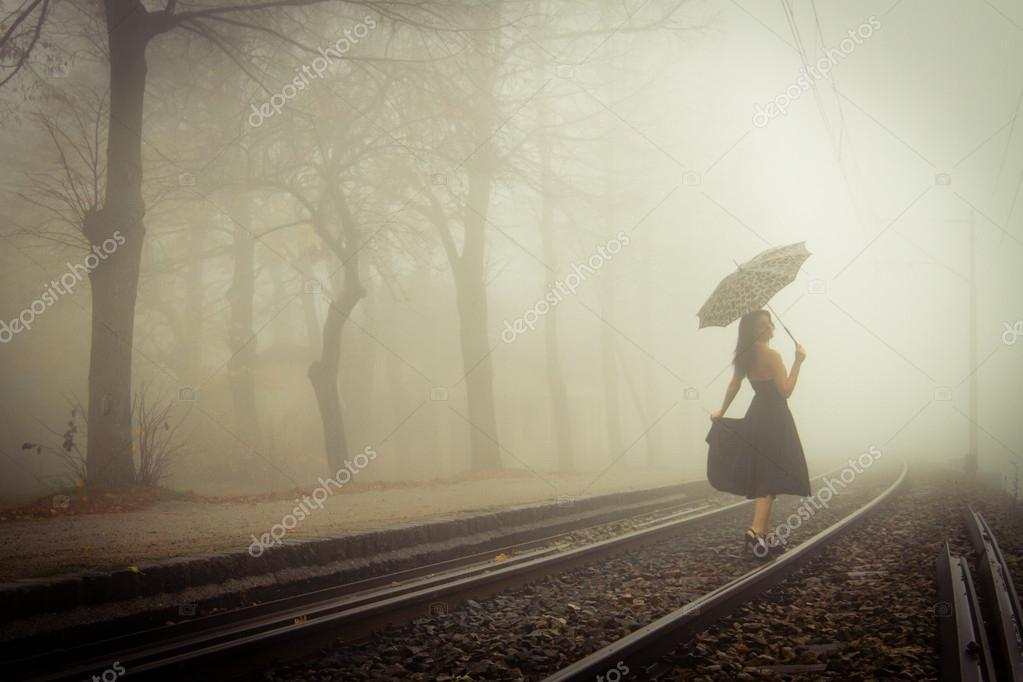Umbrella: (689, 232, 813, 351)
